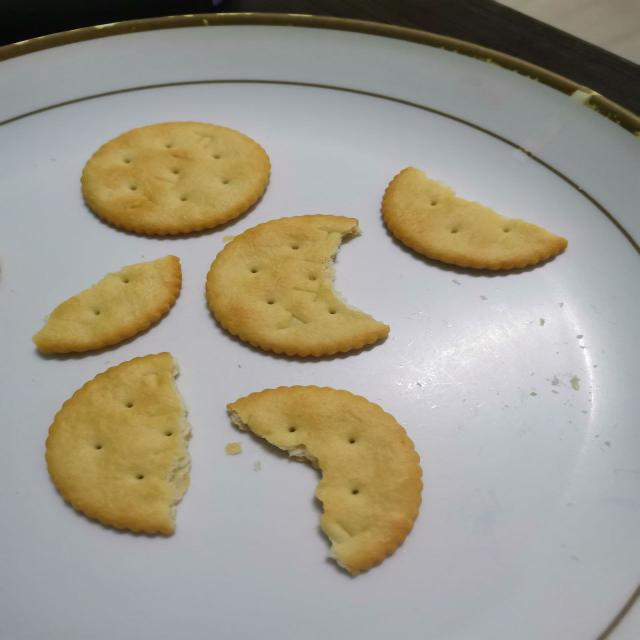broken biscuit: (225, 383, 424, 577), (43, 351, 193, 537), (204, 212, 390, 358), (379, 165, 568, 272), (31, 253, 183, 355)
intact biscuit: (79, 119, 272, 237)
